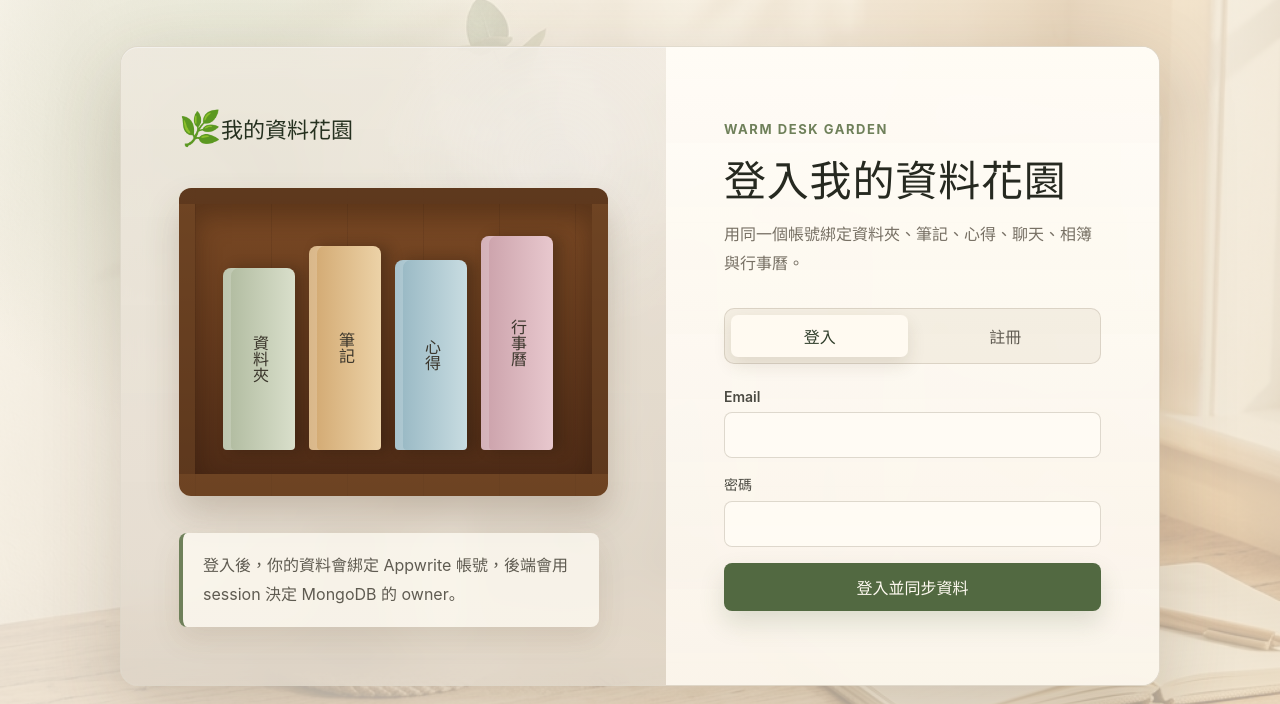
Test: Warm Desk Garden app shell › opens the workspace after sign-in without waiting for profile sync
This screenshot has width=1280, height=704.
Type "garden@example.com" into the field labelled "Email".
click(912, 435); type("garden@example.com")  # box [724, 412, 1101, 458]
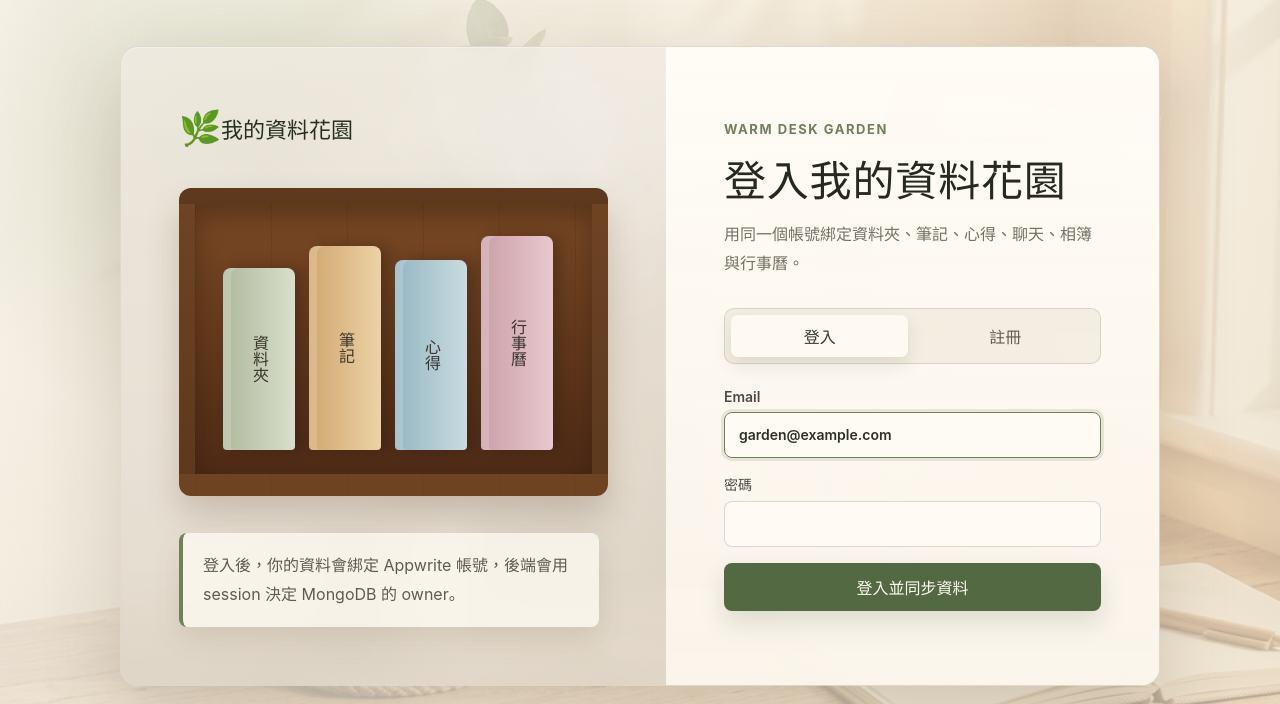
Type "password123" into the password field labelled "密碼".
click(912, 524); type("password123")  # box [724, 501, 1101, 547]
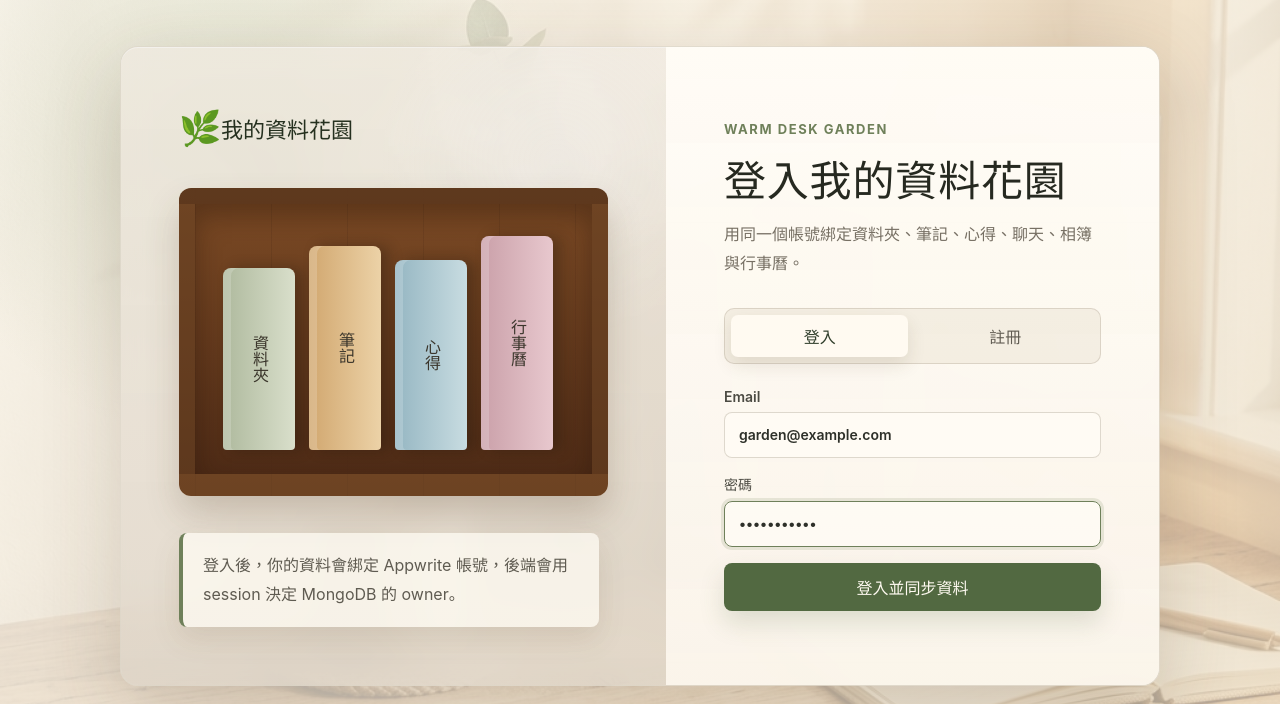
Click the button "登入並同步資料".
click(912, 587)  # box [724, 563, 1101, 611]
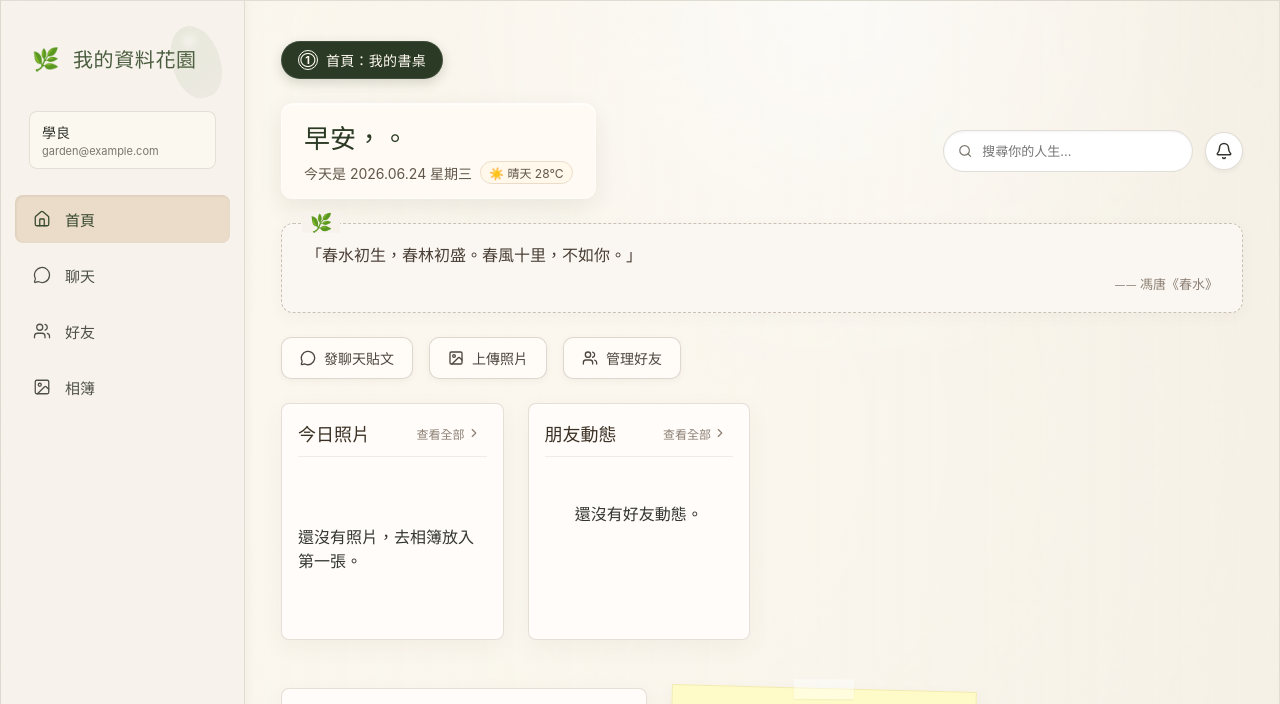
Result: the button "聊天" is shown at [15, 251, 230, 299]
